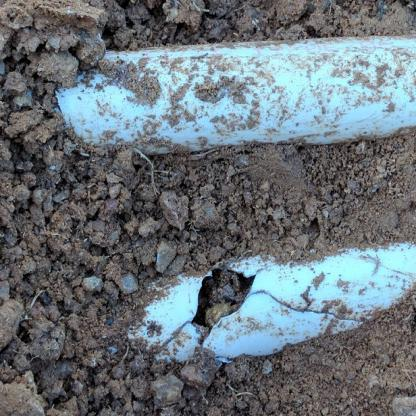PVC: (59, 40, 414, 154), (128, 243, 415, 369)
